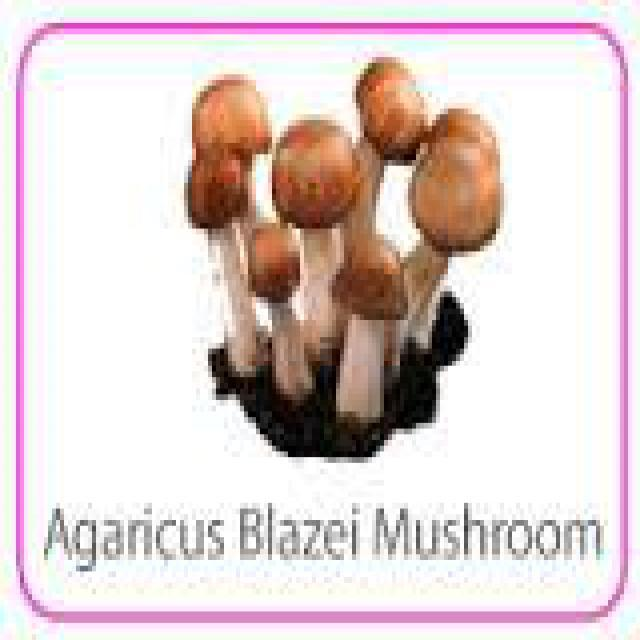Agaricus blazei Murill: (187, 58, 504, 415)
